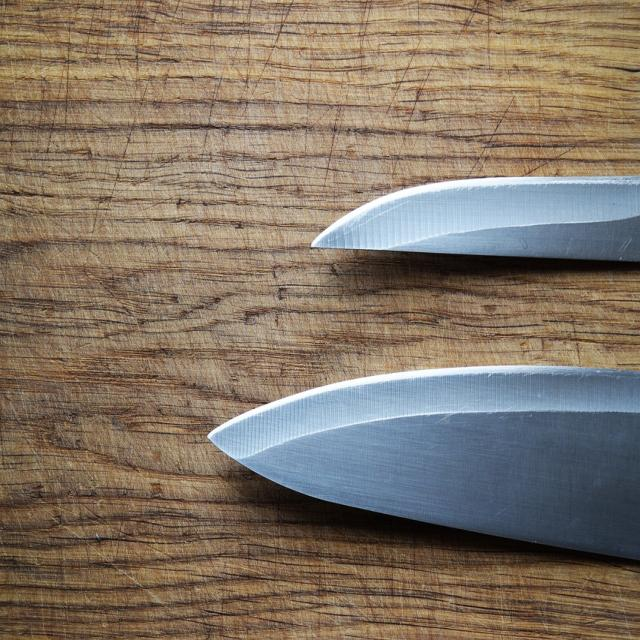Knife: (210, 367, 640, 558), (312, 176, 640, 260)
